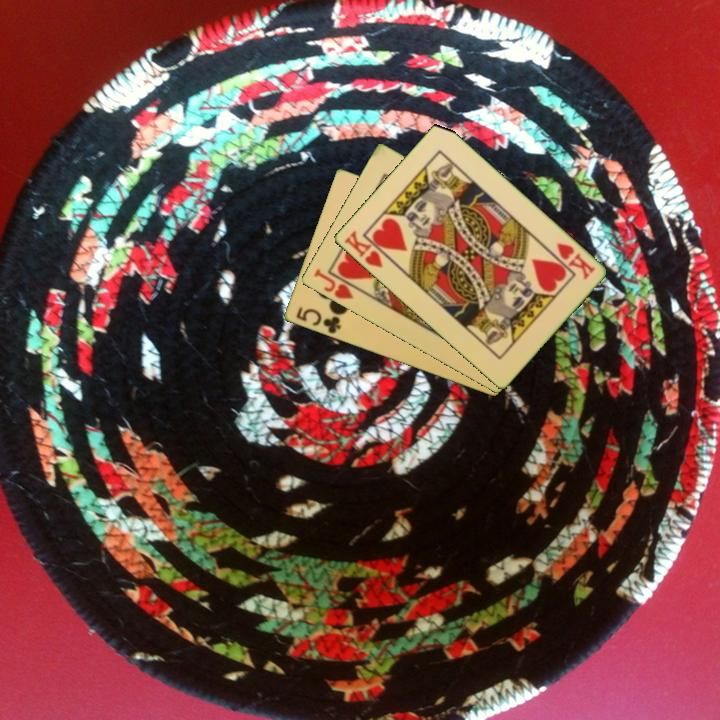5c: (292, 304, 344, 337)
Jh: (310, 265, 356, 302)
Kh: (340, 227, 394, 271), (552, 239, 598, 283)
